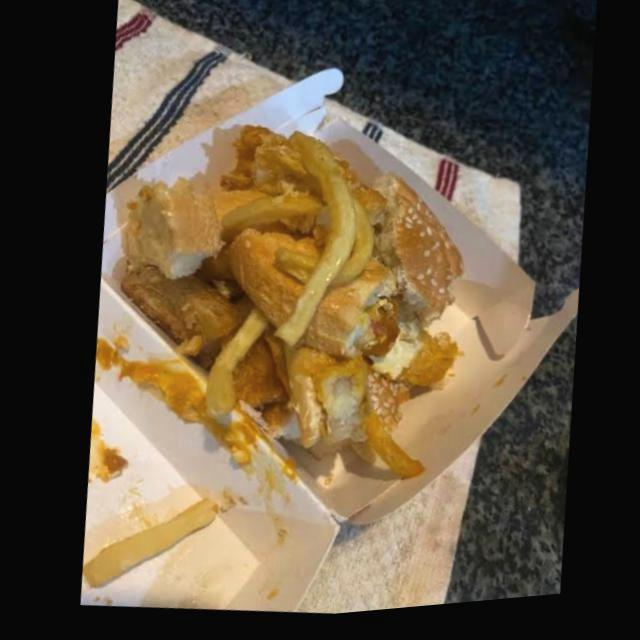left_over_food: (227, 340, 419, 485), (270, 136, 354, 353), (116, 261, 250, 372), (366, 183, 461, 334), (211, 129, 325, 251), (75, 501, 212, 590), (117, 179, 219, 281), (225, 233, 316, 333), (299, 266, 390, 363), (200, 313, 263, 422), (321, 202, 371, 301), (400, 340, 453, 394)
